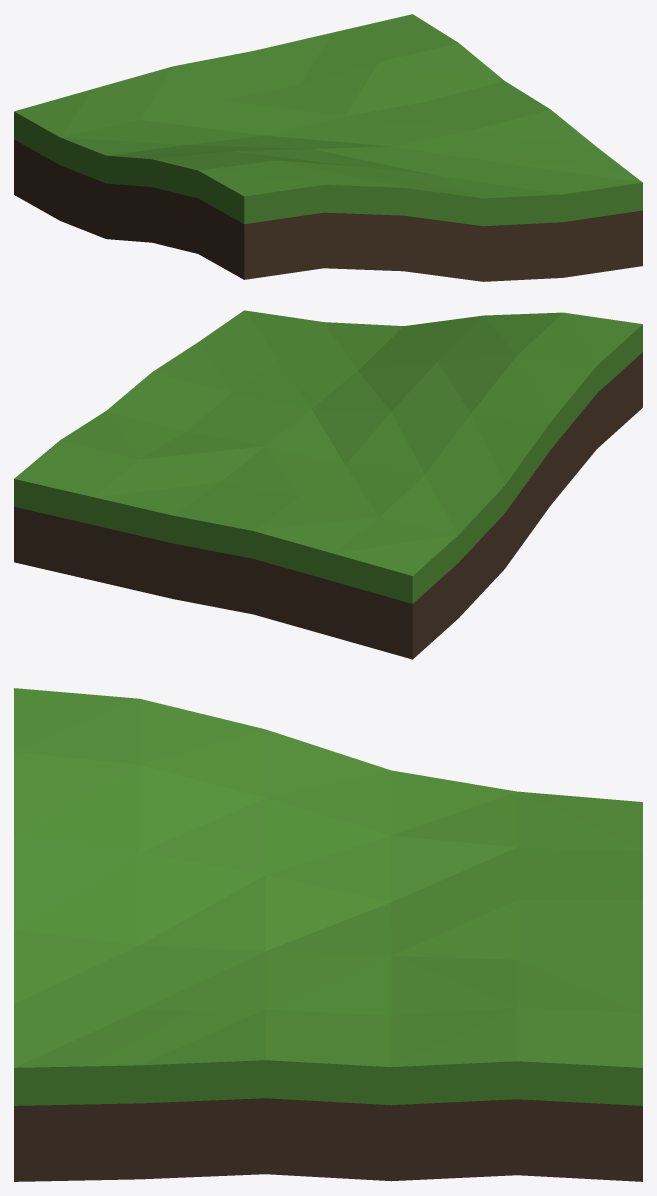
Rendered from terrain-world-hill4.glb.
The picture shows the model from 3 angles, top to bottom: view 1: azimuth 30°, elevation 25°; view 2: azimuth 150°, elevation 25°; view 3: azimuth 270°, elevation 25°; orthographic projection. The views are drawn at different scales.
Parts seen in each view (by area): view 1: terrain-world-hill4; view 2: terrain-world-hill4; view 3: terrain-world-hill4.
Part boxes in pixels (box(x1,y1,x2,y2)): terrain-world-hill4: box(14, 14, 642, 281); terrain-world-hill4: box(14, 310, 642, 659); terrain-world-hill4: box(14, 688, 642, 1181).
Bounding box in the file's own units: 30 × 12 × 30.
Materials: 1 (1 with a texture image).
